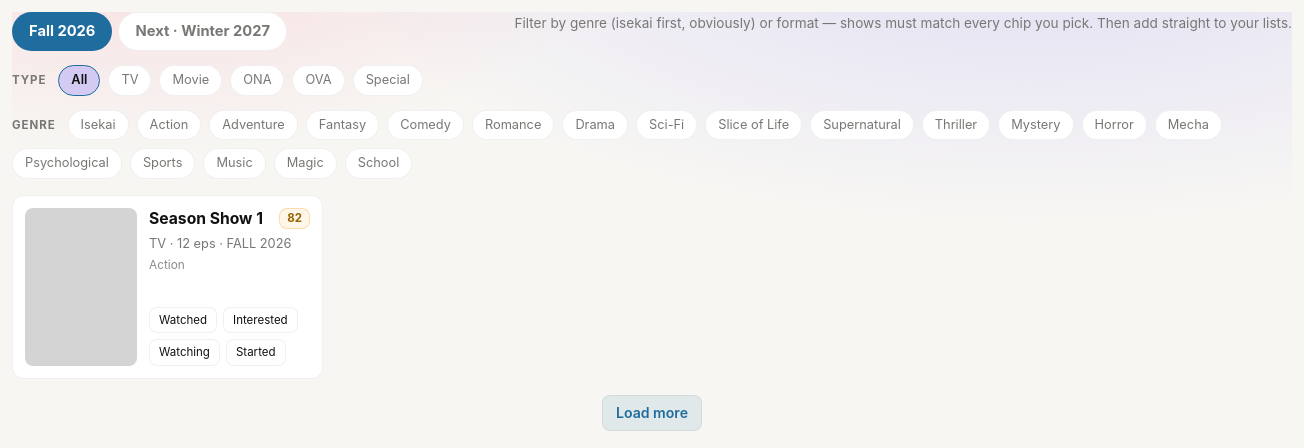
it: SeasonBrowse — season browse page › Load more appends the next page
The width and height of the screenshot is (1304, 448).
Check: the heading "Season Show 1" is shown, box [149,208,263,231]
Step 1. Click the button "Load more" → [652, 413], box [602,395,702,431]
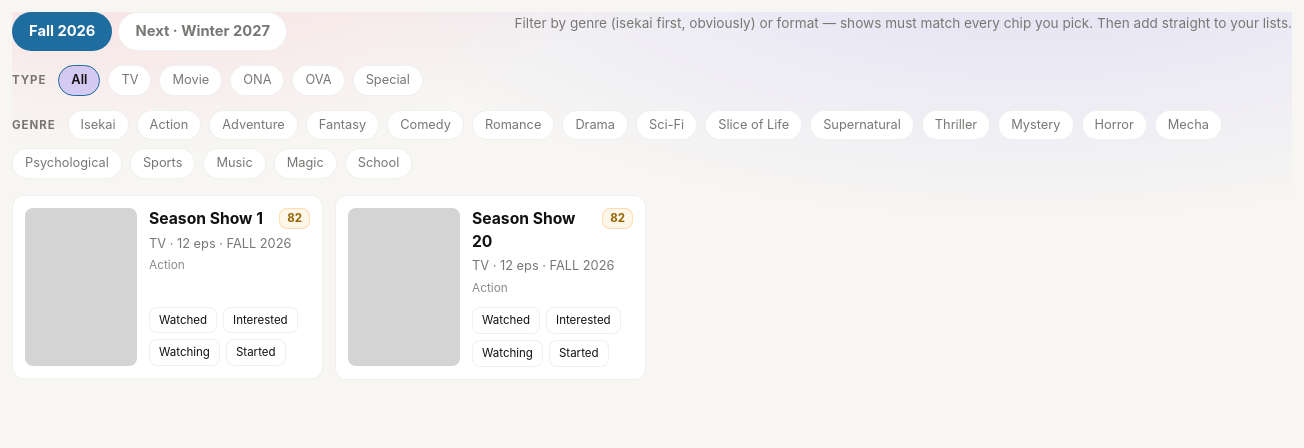
Check: the heading "Season Show 20" is shown, box [472,209,576,251]
